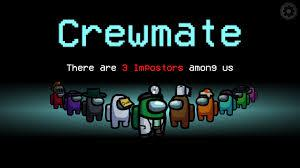amongus: (134, 91, 168, 138), (170, 95, 195, 129), (197, 95, 218, 123), (86, 95, 104, 121), (220, 93, 238, 115), (65, 94, 83, 116)
